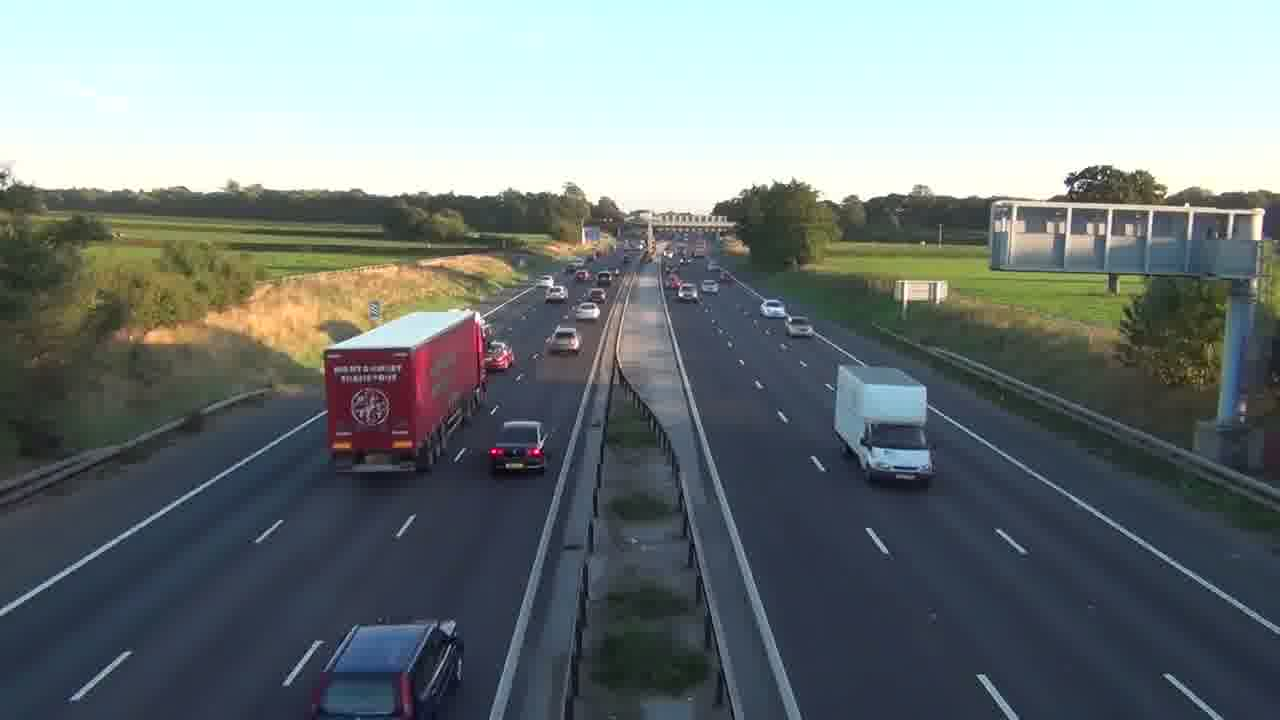car: (307, 618, 465, 717), (546, 327, 582, 356), (761, 298, 787, 319)
truck: (322, 308, 486, 473), (307, 618, 465, 717), (832, 364, 936, 485)
